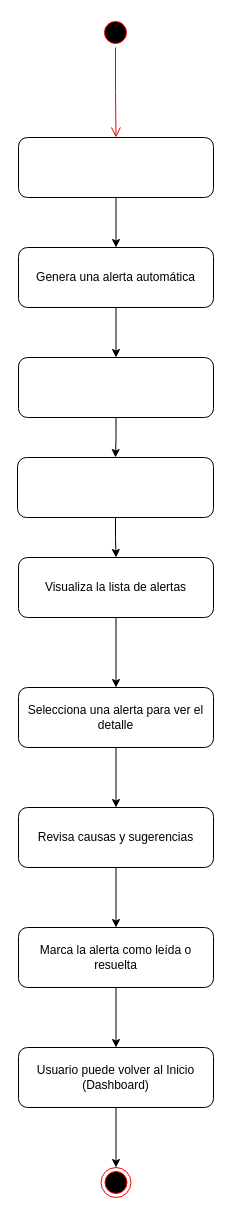
This 231x1215 diagram has some shape labels left out. The shapes that lost their labels are listed below. From the top down, each one's box as (x1, y1, x2, y2) in pixels, then its label:
(18, 136, 214, 198): Sistema detecta una medición fuera del umbral
(18, 356, 214, 418): Envía la notificación al usuario (push y/o correo)
(16, 456, 214, 518): Usuario abre Notificaciones → pestaña "Alertas"
